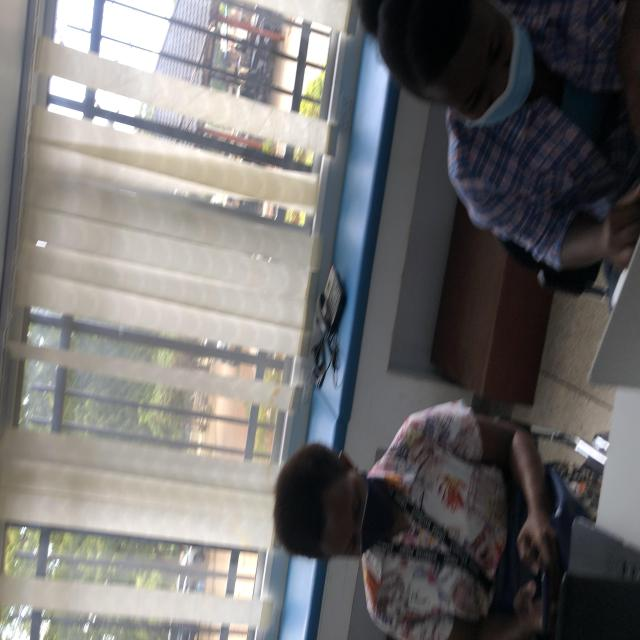no-helmet: (454, 19, 534, 127), (324, 471, 400, 559)
